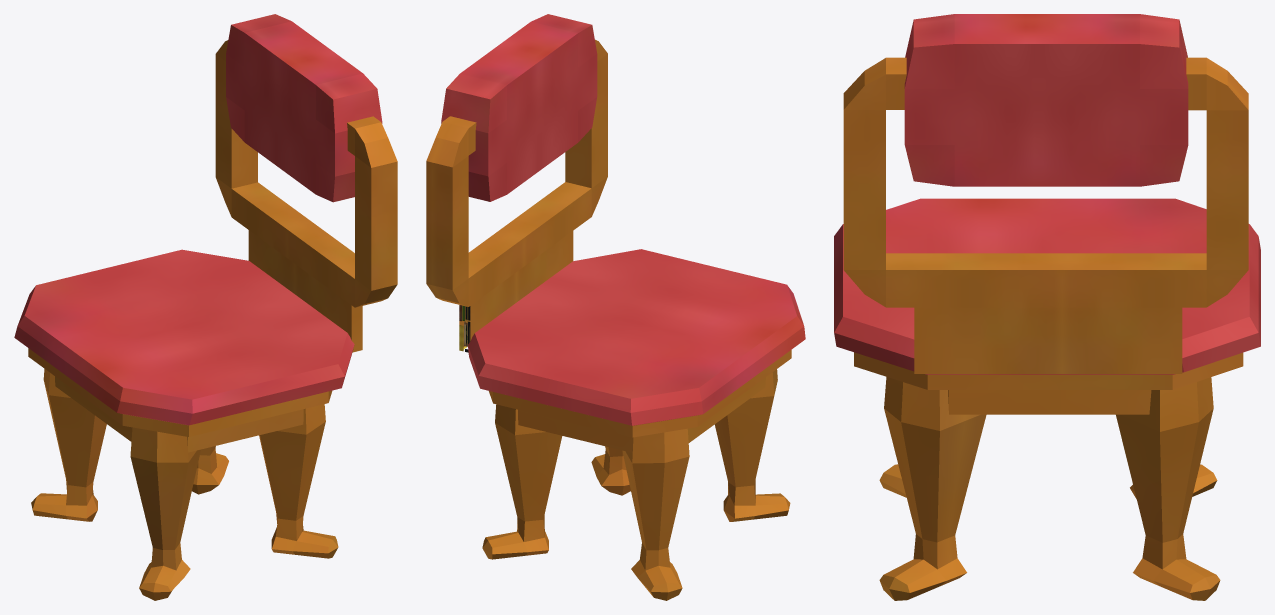
Rendered from cadeira2.fbx.
The picture shows the model from 3 angles, left to right: view 1: azimuth 30°, elevation 25°; view 2: azimuth 150°, elevation 25°; view 3: azimuth 270°, elevation 25°; orthographic projection. The views are drawn at different scales.
Visible parts, largest first — view 1: Plano.036; view 2: Plano.036; view 3: Plano.036.
Boxes of the visible parts, x1,y1,x2,y2 form: Plano.036: (14, 14, 397, 600); Plano.036: (426, 14, 805, 600); Plano.036: (834, 14, 1260, 600).
Bounding box in the file's own units: 145 × 243 × 159.
Materials: 1 (1 with a texture image).
